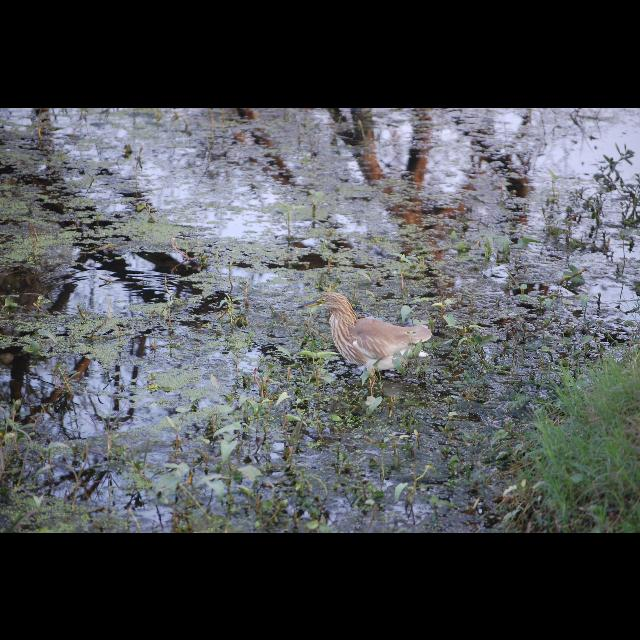heron: (291, 276, 439, 396)
